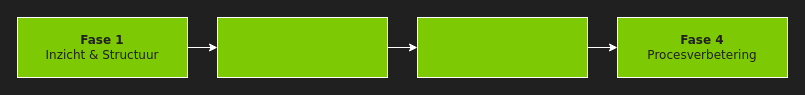
Some shapes in this 805 by 95 pixel diagram are drawn without their labels. The shapes that lost their labels are listed below. From the top down, each one's box as (x1, y1, x2, y2) in pixels, then its label:
(216, 16, 388, 78): Fase 2 Procesdocumentatie
(416, 16, 588, 78): Fase 3 KPI's en Kwaliteitsborging
